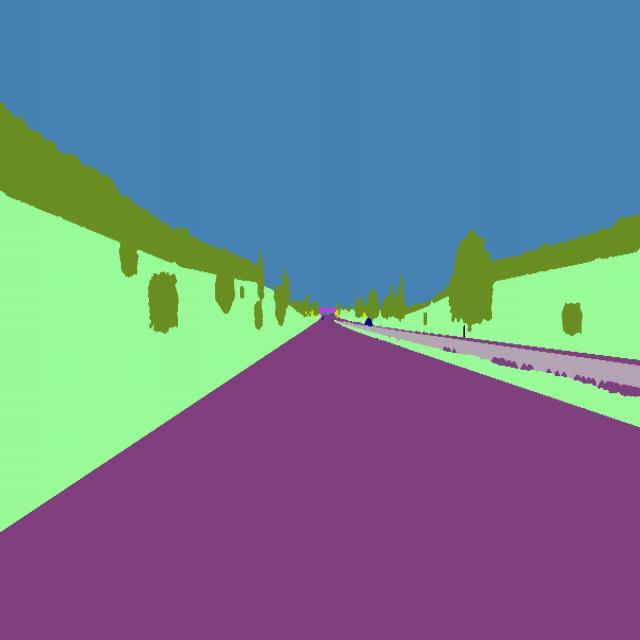safe: (362, 316, 375, 329)
